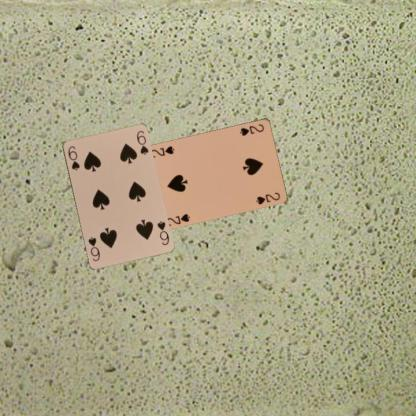2s: (238, 121, 265, 137), (164, 211, 191, 227)
6s: (65, 143, 81, 172), (154, 218, 170, 246)
